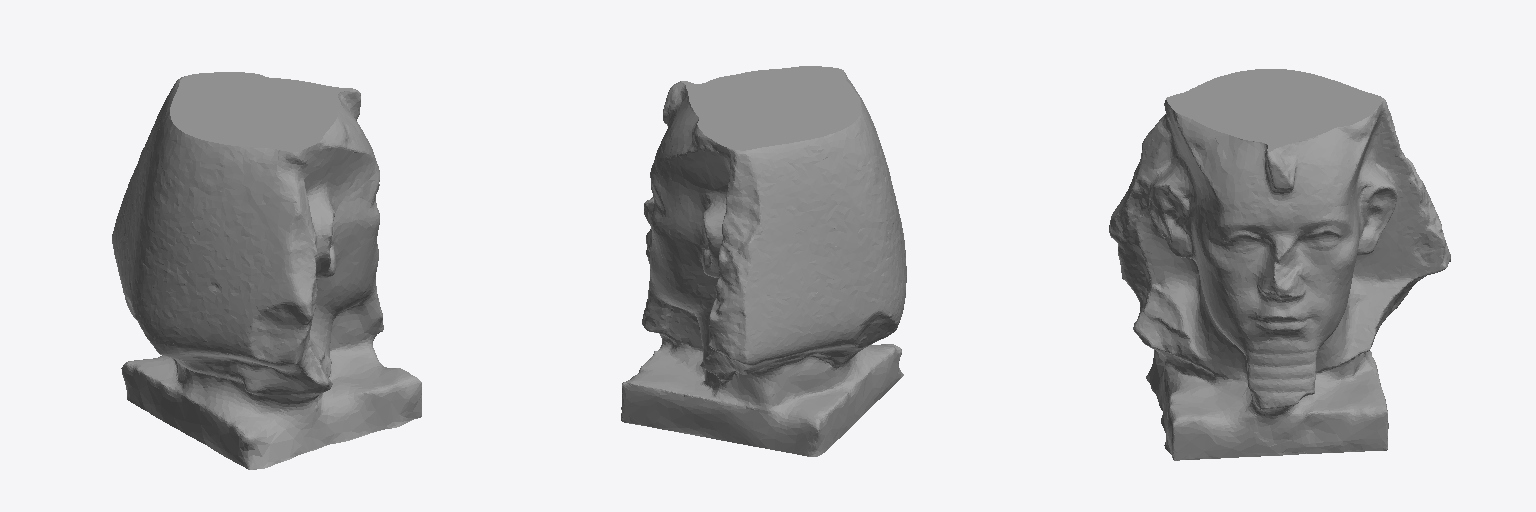
Rendered from amenemhat.obj.
3 views of the same model, side by side, from view 1: azimuth 30°, elevation 25°; view 2: azimuth 150°, elevation 25°; view 3: azimuth 270°, elevation 25° (orthographic).
Parts seen in each view (by area): view 1: sculpt; view 2: sculpt; view 3: sculpt.
Part boxes in pixels (x1,y1,x2,y2): sculpt: (112,72,421,469); sculpt: (621,66,906,456); sculpt: (1109,69,1450,460).
Bounding box in the file's own units: 6.02 × 7.08 × 7.35.